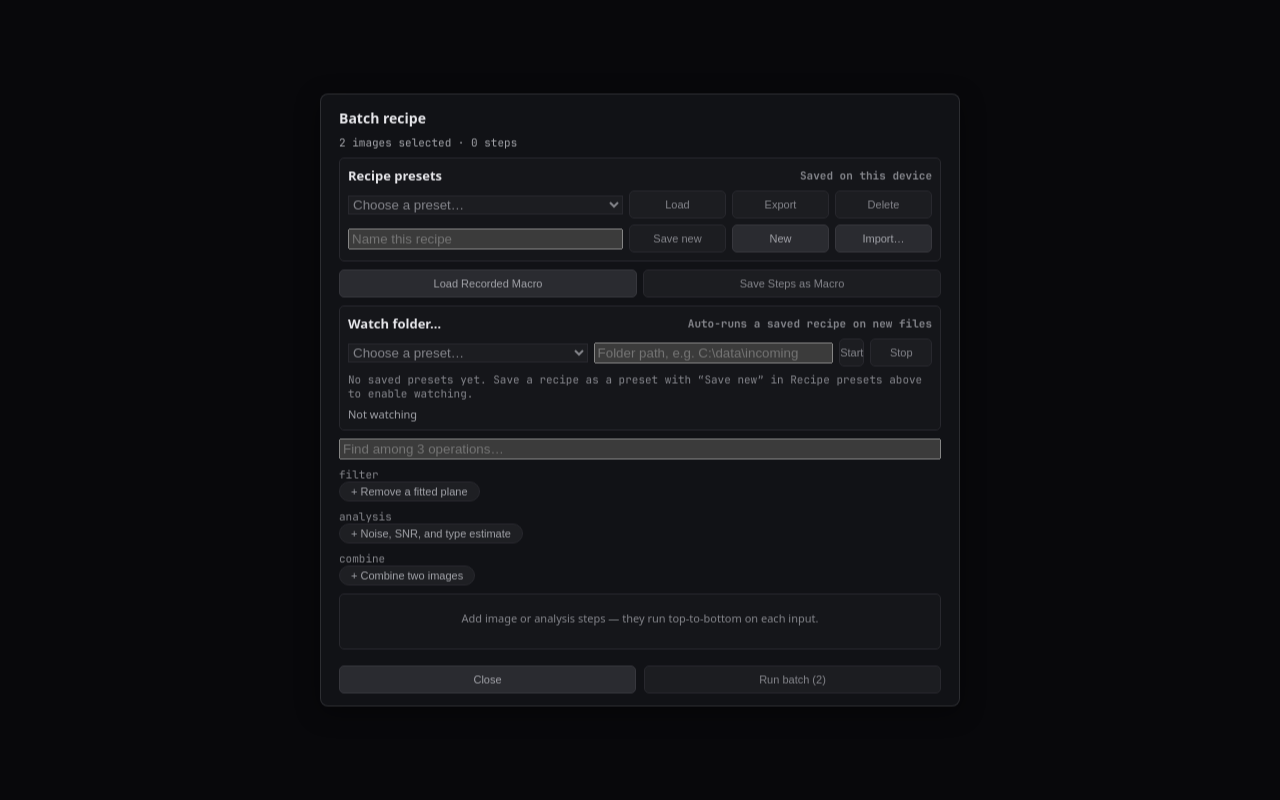
BatchDialog › does not reuse a removed step's image binding
Click the button "+ Combine two images" at (407, 576), box [339,566,475,586]
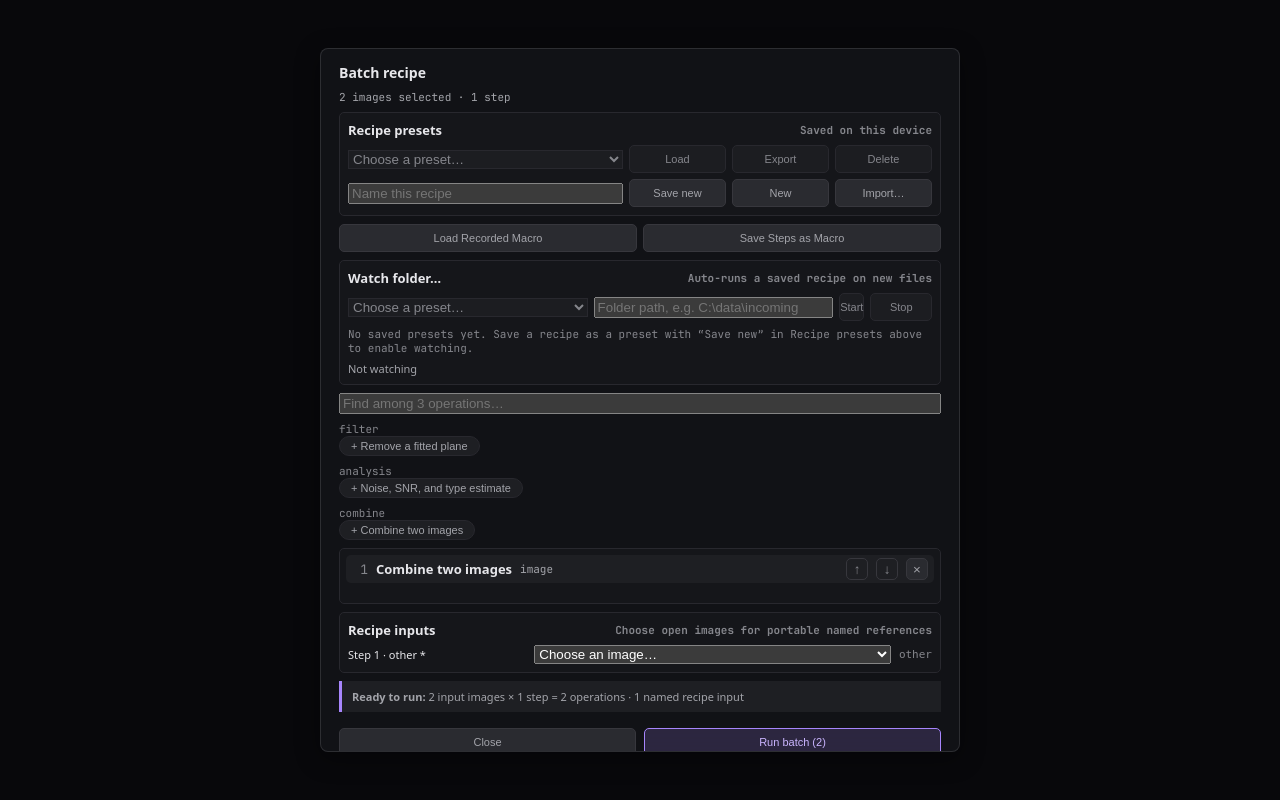
Select "a.dm4" in the dropdown named "Step 1 other input" at (713, 654), box [534,645,891,664]
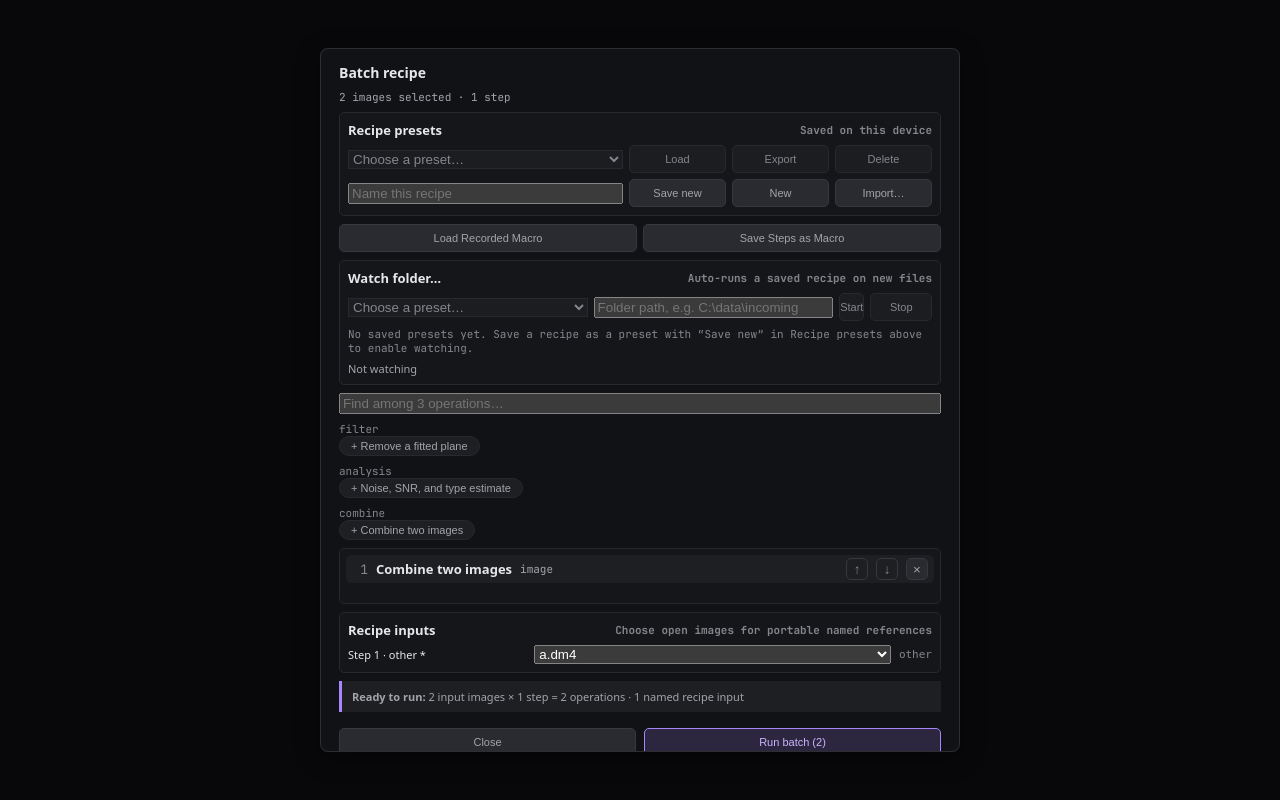
Click the button "+ Combine two images" at (407, 530), box [339,520,475,540]
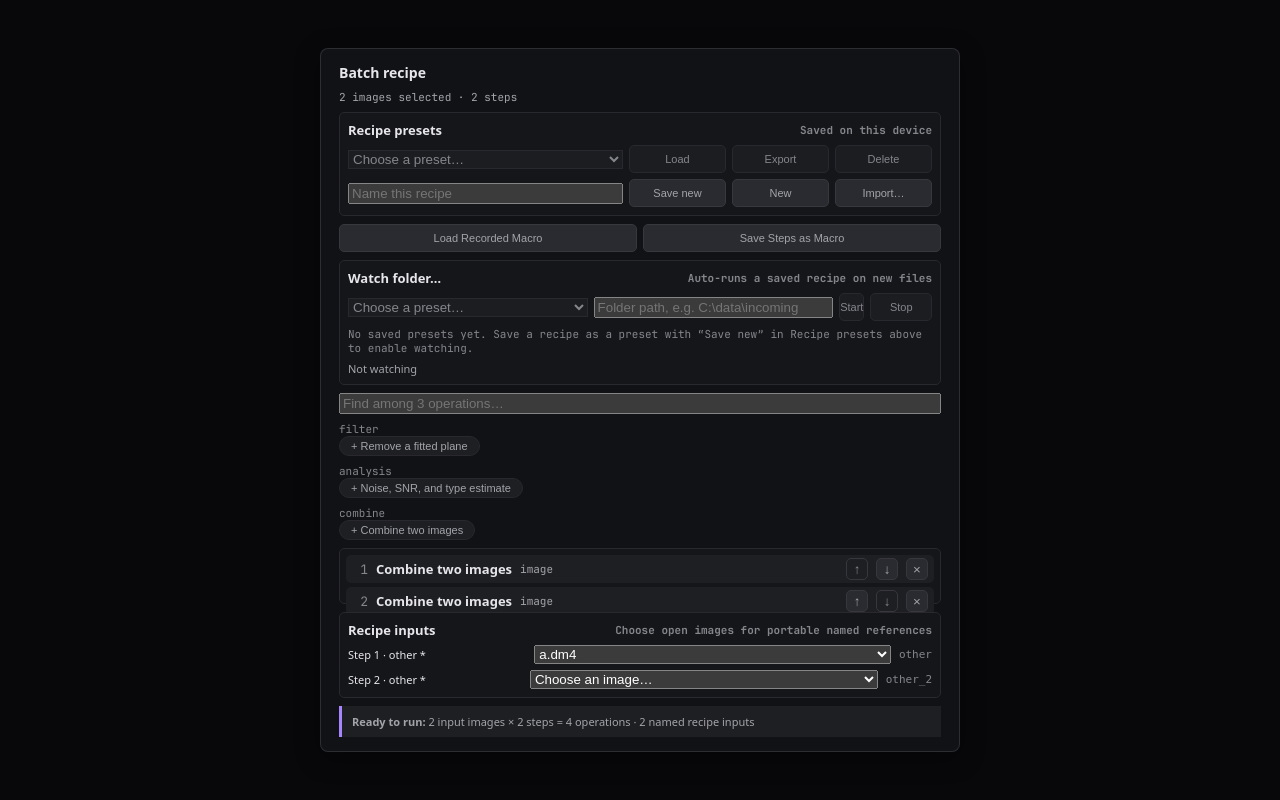
Select "b.dm4" in the dropdown named "Step 2 other input" at (704, 680), box [530,670,878,689]
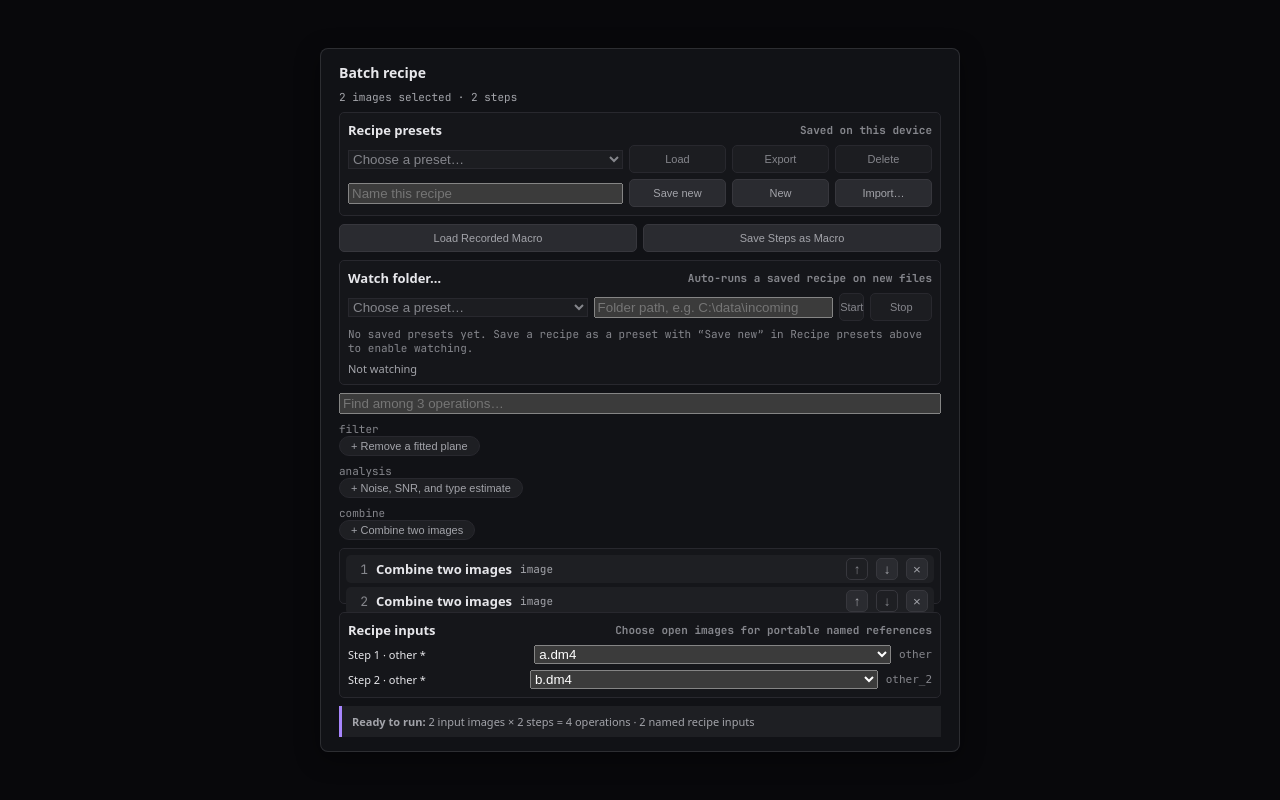
Click the 1st button titled "Remove step" at (917, 569), box [906,558,928,580]
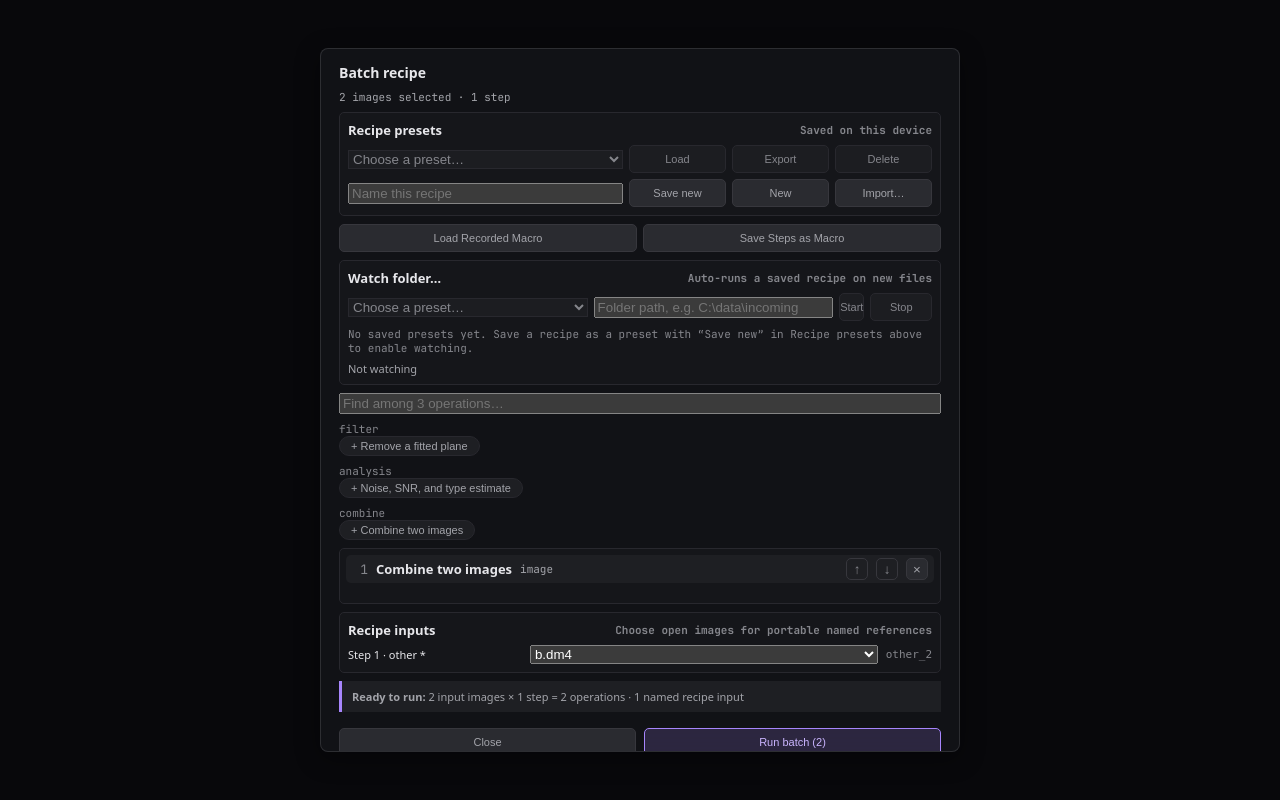
Click the button "+ Combine two images" at (407, 530), box [339,520,475,540]
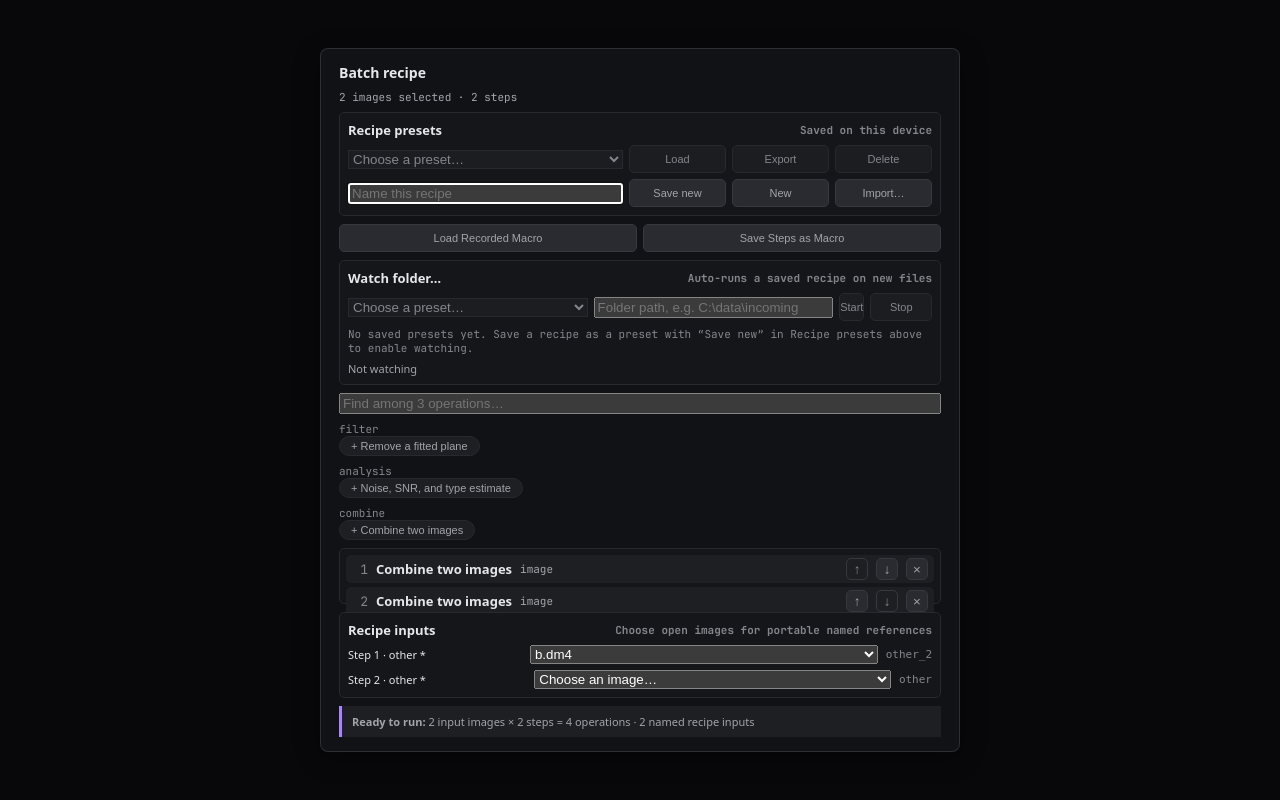
Check: the dropdown named "Step 2 other input" shows "Choose an image…", box [534,670,891,689]
